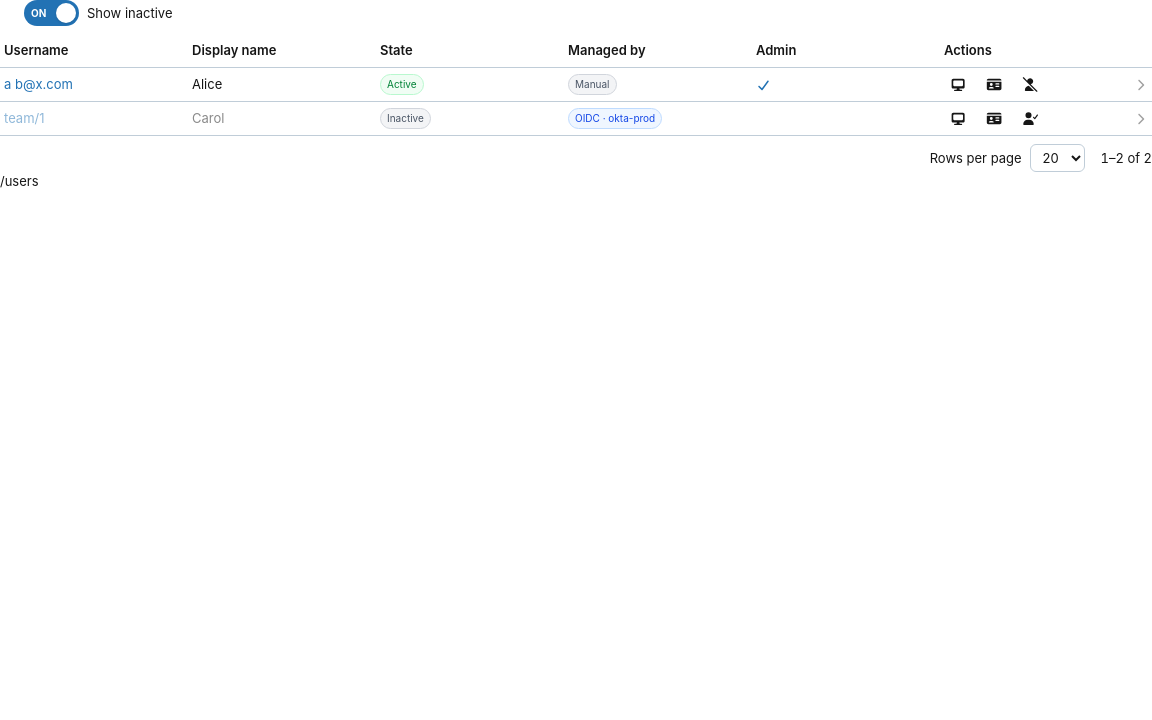
Test case: UsersPage › admin › row actions › opens the deactivate modal without navigating
Expected: the text "Deactivate User" is not shown
Click the button named "Deactivate user". click: (1030, 84)
box: [1016,70,1044,98]
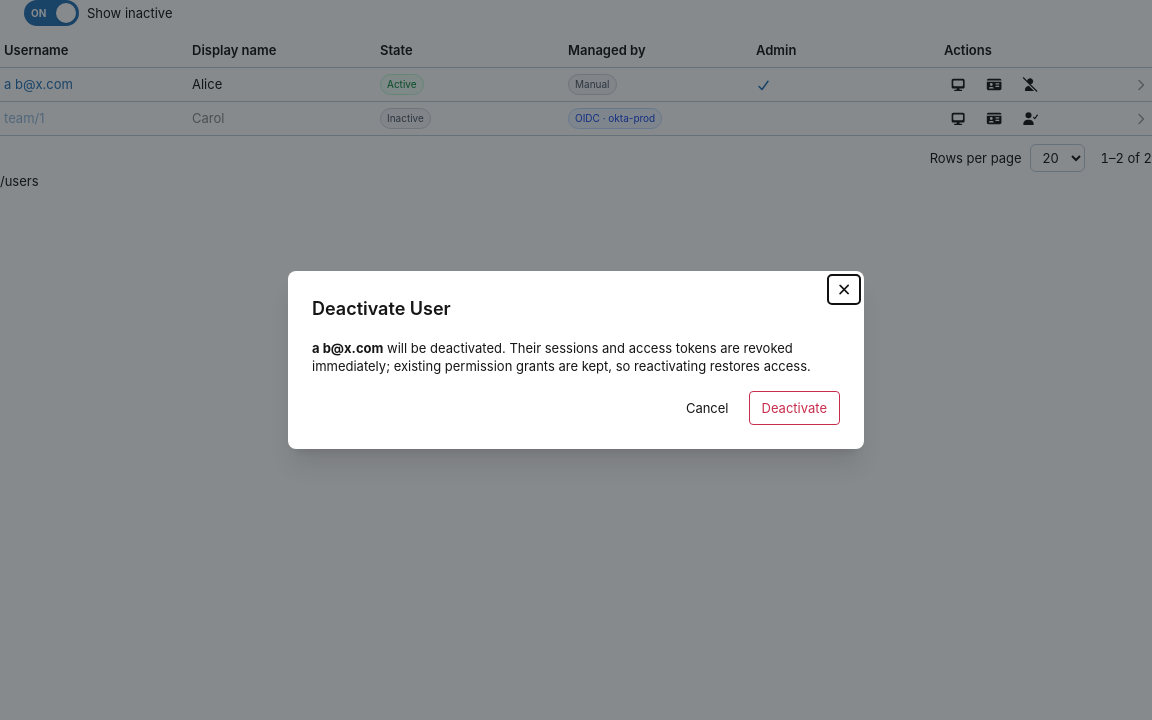
Expected: the text with test id "location" reads "/users", [0,173,39,189]
Expected: the heading "Deactivate User" is shown, [312,298,451,319]
